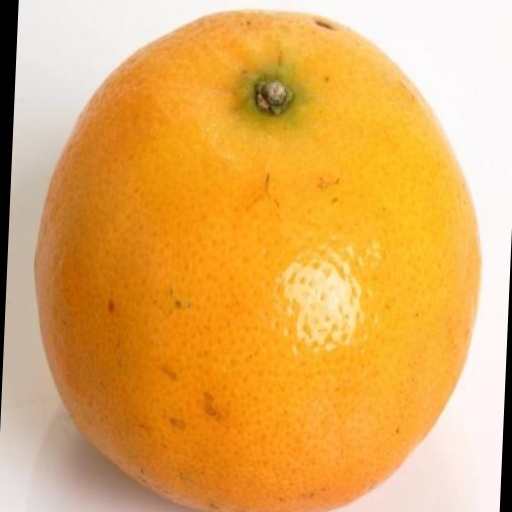fruit: (35, 11, 479, 512)
